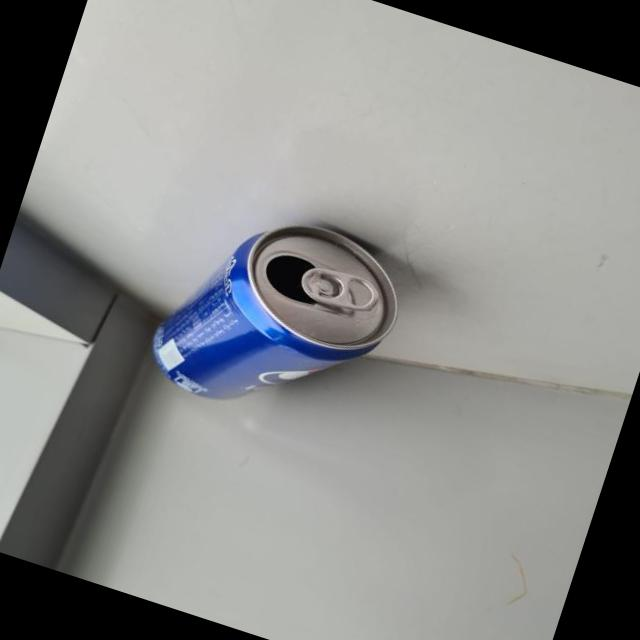Kaleng: (138, 187, 418, 450)
